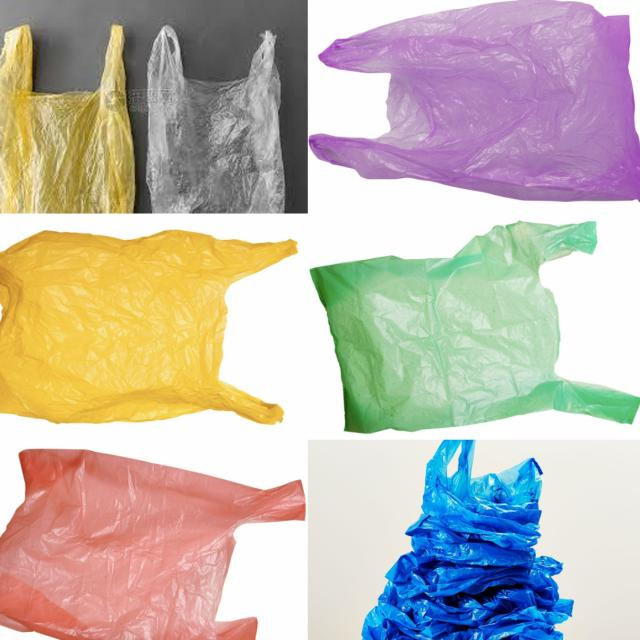plastik: (309, 1, 640, 202), (0, 230, 295, 423), (146, 26, 285, 213), (0, 24, 135, 212)
